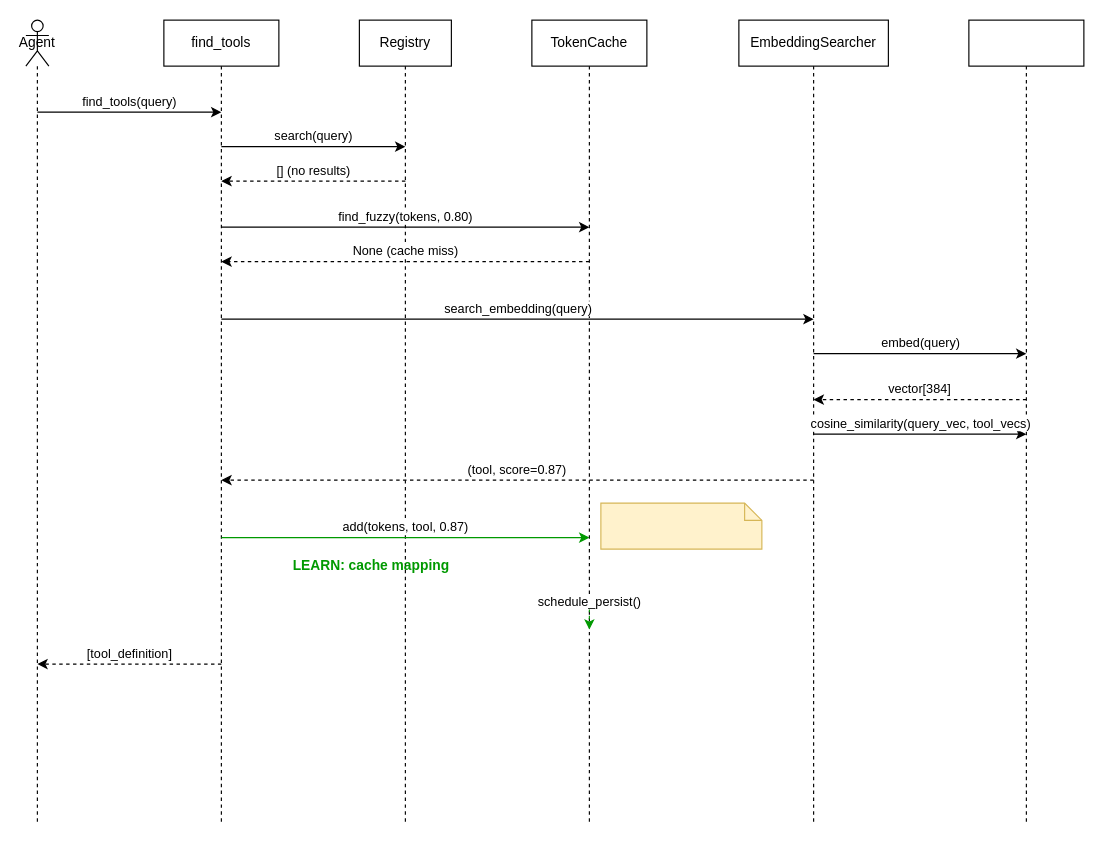
The diagram is 1104 pixels wide and 845 high, and some of its shapes have lost their labels. Each missing label, with the centre of its shape:
"OnnxProvider" goes at point 1026,422.
"score > 0.75 → CACHE" goes at point 681,525.
